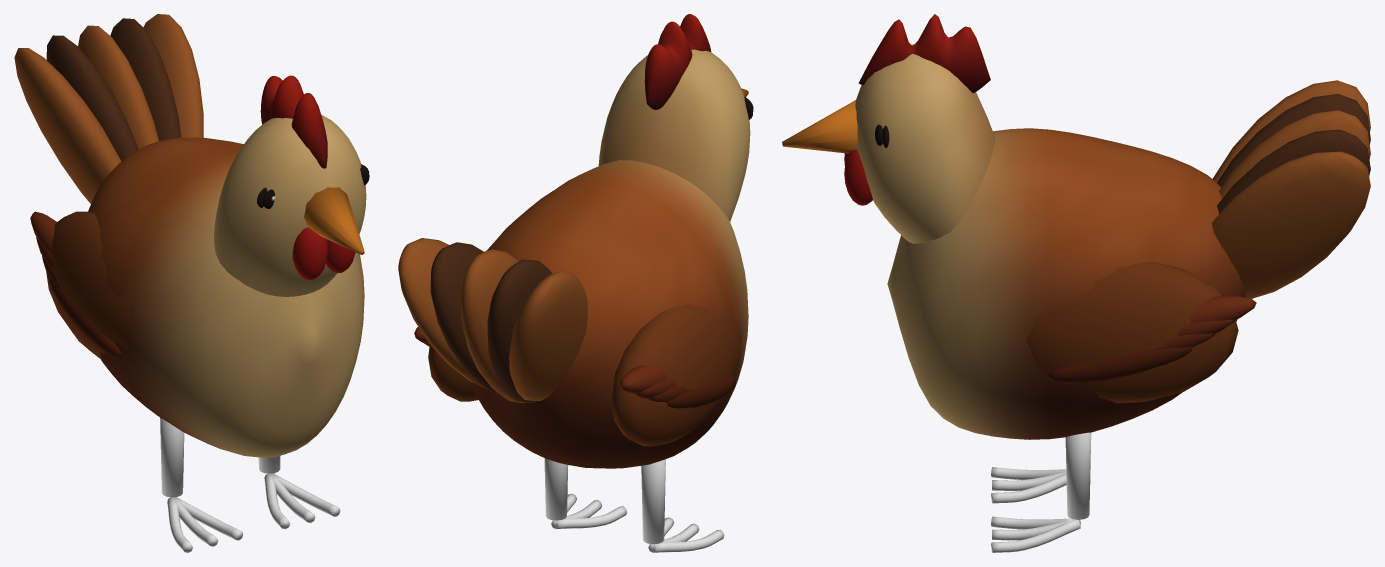
The model's file is Hen.fbx.
The picture shows the model from 3 angles, left to right: view 1: azimuth 30°, elevation 25°; view 2: azimuth 150°, elevation 25°; view 3: azimuth 270°, elevation 25°; orthographic projection. The views are drawn at different scales.
Visible parts, largest first — view 1: BodyMesh, HeadMesh, TailMesh, Leg_LMesh, Leg_RMesh; view 2: BodyMesh, TailMesh, HeadMesh, Leg_LMesh, Leg_RMesh; view 3: BodyMesh, HeadMesh, TailMesh, Leg_RMesh, Leg_LMesh.
Part boxes in pixels (x1,y1,x2,y2): BodyMesh: (30, 137, 364, 457); HeadMesh: (214, 75, 369, 296); TailMesh: (14, 14, 203, 203); Leg_LMesh: (160, 417, 243, 552); Leg_RMesh: (258, 455, 340, 529); BodyMesh: (414, 160, 748, 468); TailMesh: (398, 238, 587, 403); HeadMesh: (598, 14, 753, 221); Leg_LMesh: (641, 459, 724, 552); Leg_RMesh: (544, 458, 627, 529); BodyMesh: (887, 128, 1256, 439); HeadMesh: (782, 14, 994, 243); TailMesh: (1211, 80, 1370, 298); Leg_RMesh: (991, 432, 1091, 552); Leg_LMesh: (991, 467, 1066, 503).
Size of the model in its own units: 49.8 by 89.69 by 95.56.
